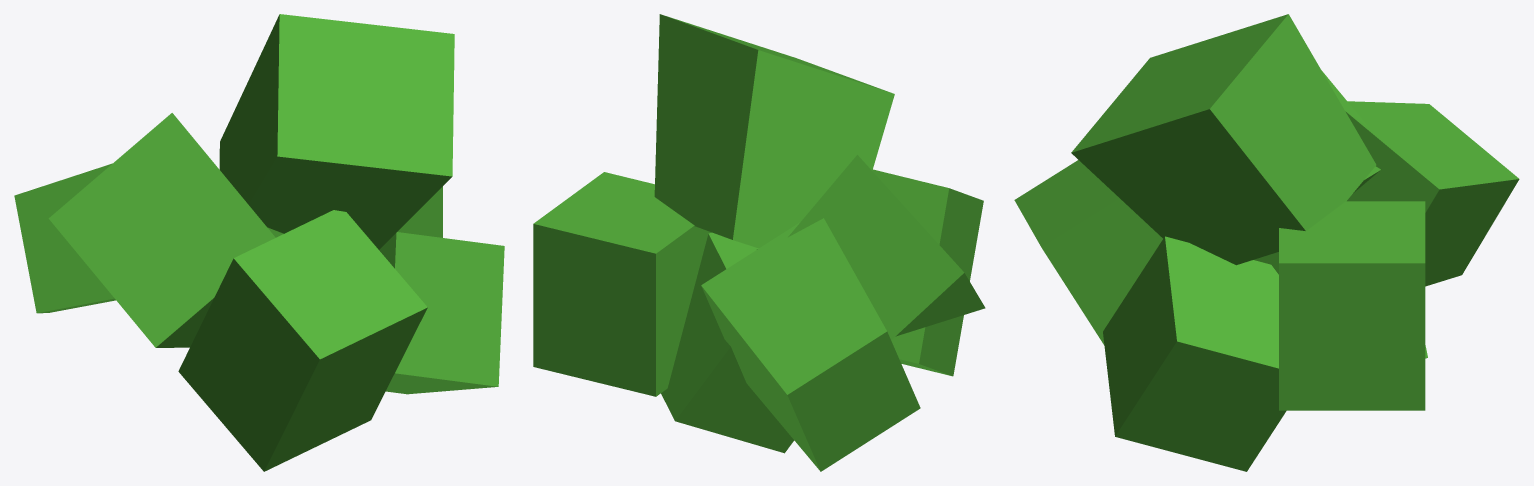
The model's file is Grass_11.fbx.
3 renders of one model, left to right at view 1: azimuth 30°, elevation 25°; view 2: azimuth 150°, elevation 25°; view 3: azimuth 270°, elevation 25°, orthographic. The views are drawn at different scales.
Visible parts, largest first — view 1: Grass_11; view 2: Grass_11; view 3: Grass_11.
Part boxes in pixels (x1,y1,x2,y2): Grass_11: (14,14,504,471); Grass_11: (533,14,985,471); Grass_11: (1014,14,1519,471).
Size of the model in its own units: 41.63 by 40 by 45.34.
